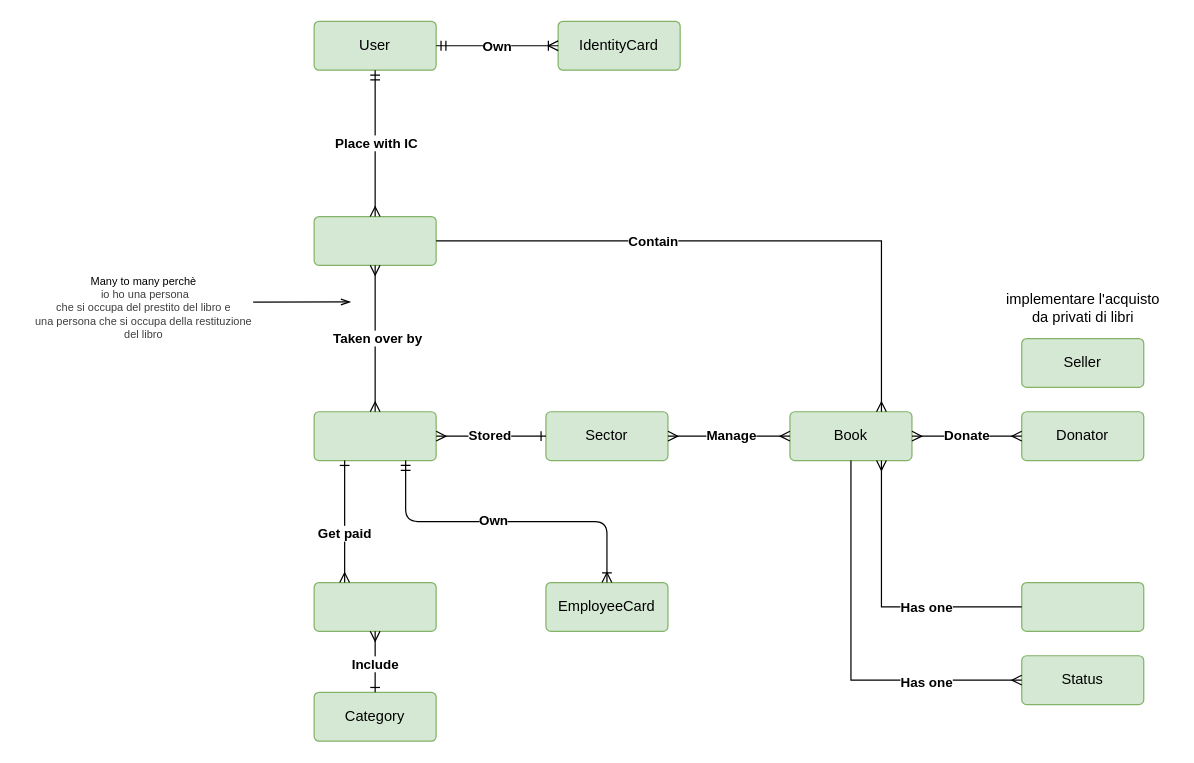
Image size: 1194x763. Some labels were removed from this diagram. Each missing label, with the centre of its shape:
"BookIdentity" goes at point (1082, 606).
"Employee" goes at point (374, 436).
"Payment" goes at point (374, 606).
"Rental" goes at point (374, 240).
